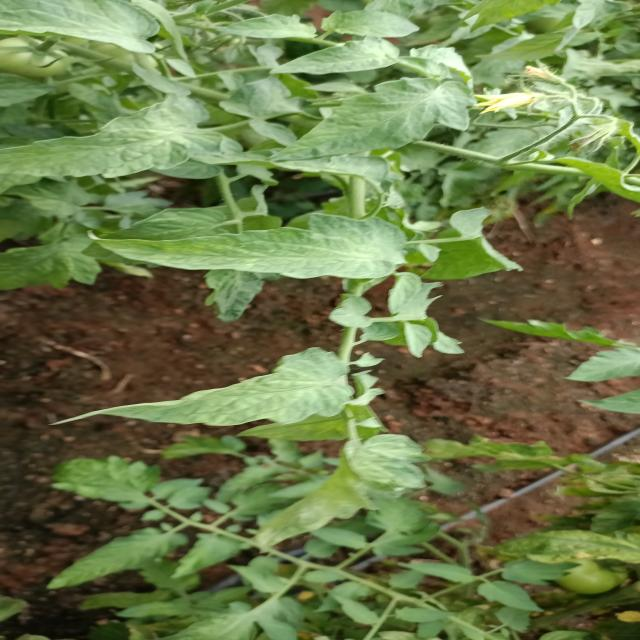Healthy Leaf: (38, 346, 346, 442), (86, 203, 414, 292)
